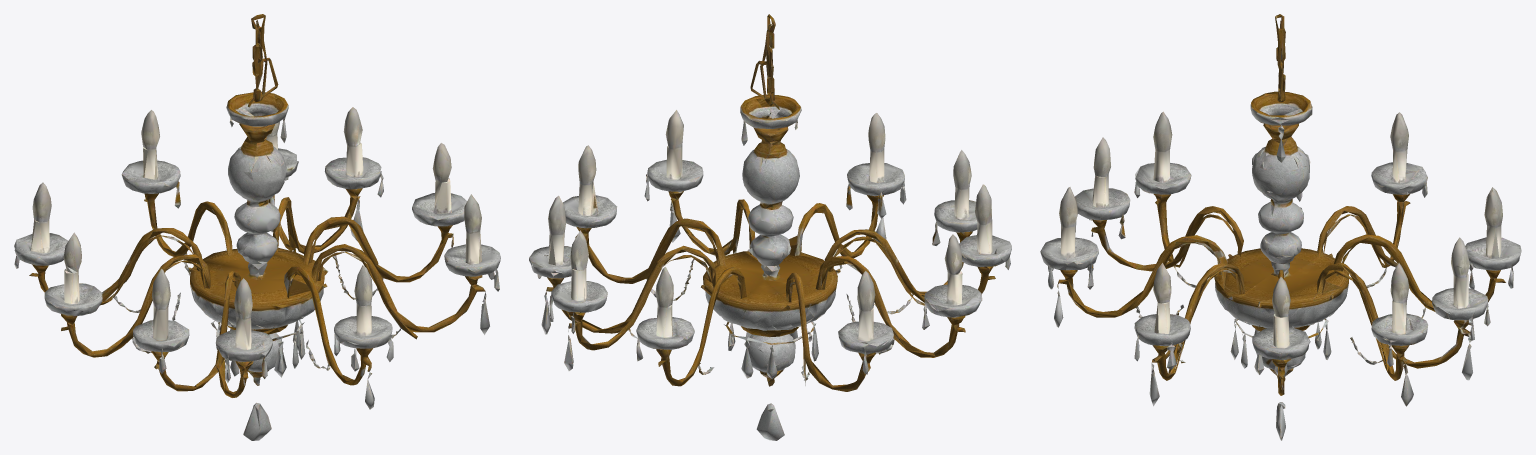
File: chandelier.glb
3 views of the same model, side by side, from view 1: azimuth 30°, elevation 25°; view 2: azimuth 150°, elevation 25°; view 3: azimuth 270°, elevation 25° (orthographic).
Visible parts, largest first — view 1: chandelier; view 2: chandelier; view 3: chandelier.
Boxes of the visible parts, x1,y1,x2,y2 form: chandelier: [14, 14, 500, 440]; chandelier: [529, 14, 1011, 440]; chandelier: [1040, 14, 1521, 440].
Bounding box in the file's own units: 1.5 × 1.46 × 1.5.
1 material, 1 textured.
